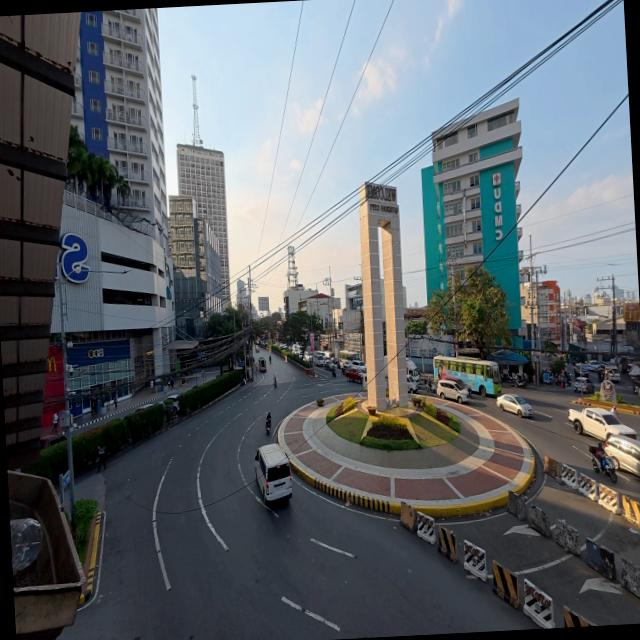bus: (433, 356, 500, 396), (339, 351, 360, 369)
car: (605, 436, 639, 477), (496, 394, 531, 417), (436, 380, 469, 404), (40, 433, 65, 449), (573, 378, 593, 393), (161, 395, 178, 412), (574, 363, 594, 376), (133, 403, 153, 413), (406, 375, 417, 393), (340, 360, 351, 375), (350, 360, 365, 369), (588, 361, 600, 372), (323, 361, 333, 371), (331, 358, 340, 368), (254, 346, 259, 353), (637, 387, 639, 397)
motorcycle: (589, 447, 616, 483), (513, 375, 525, 388), (425, 380, 435, 393), (265, 419, 270, 434), (331, 367, 335, 377), (273, 377, 275, 388), (269, 356, 270, 364)
trucks: (568, 408, 636, 440), (344, 366, 362, 383), (383, 358, 387, 384)
vans: (254, 444, 291, 502), (604, 367, 620, 382)
